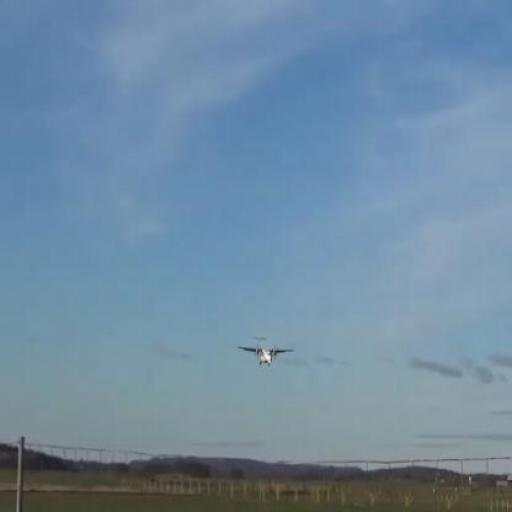aircraft: (236, 337, 294, 367)
